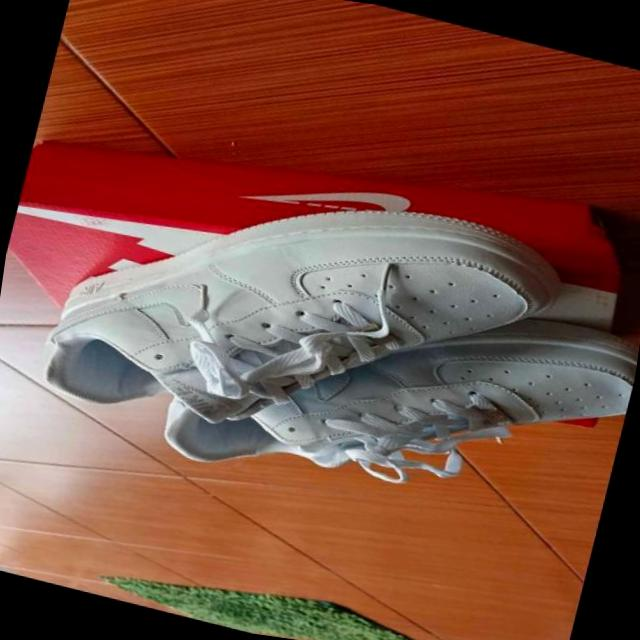nike_fake_airforce: (0, 115, 604, 512), (111, 212, 640, 553)
